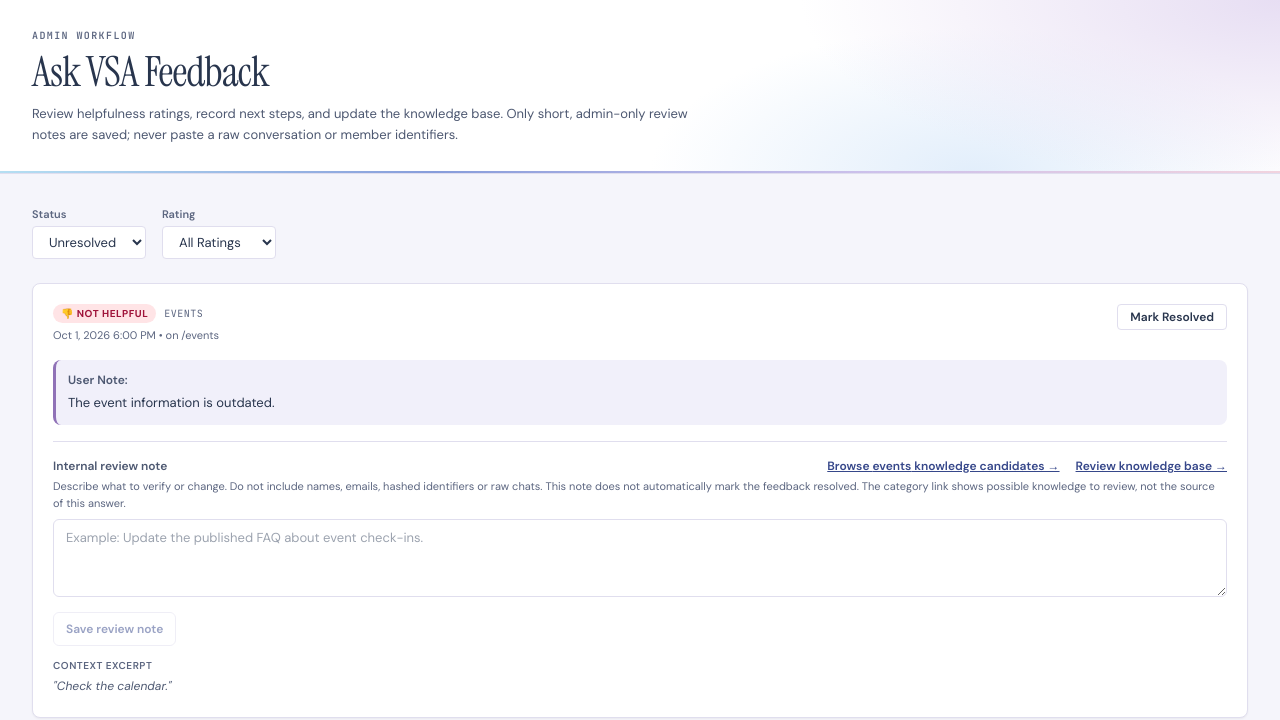
Scenario: Ask VSA feedback: private review notes (#237) › removes a just-resolved item from the unresolved inbox without a stale action
Click the button "Mark Resolved".
click(1172, 317)  # box [1117,304,1227,330]
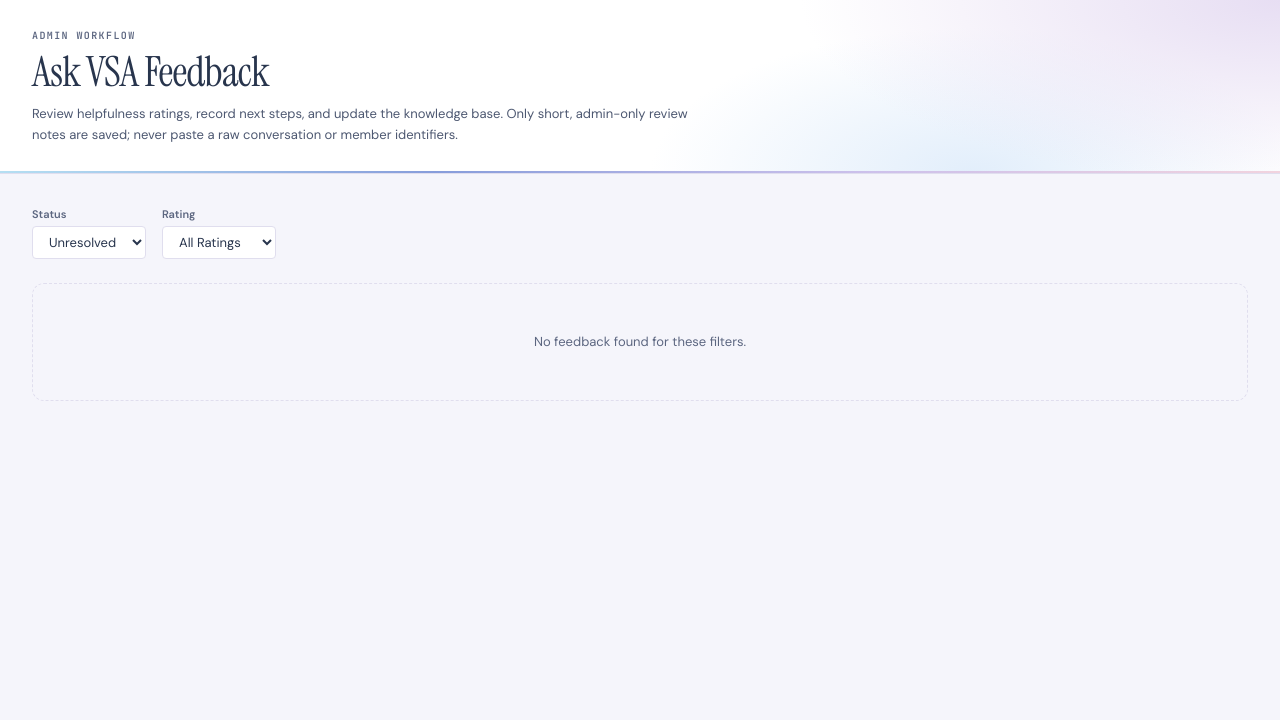
Result: the text "No feedback found for these filters." is shown at [534,333,746,350]
Result: the button "Mark Resolved" is gone
